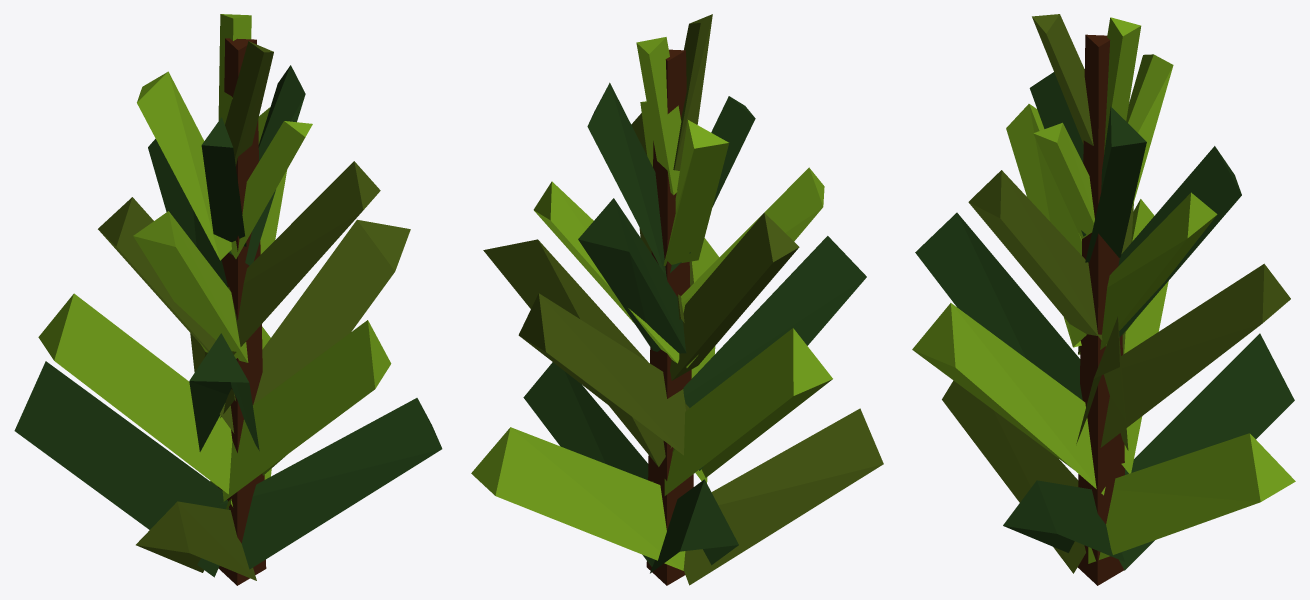
The model's file is Tree3_M2_3_small.fbx.
3 renders of one model, left to right at view 1: azimuth 30°, elevation 25°; view 2: azimuth 150°, elevation 25°; view 3: azimuth 270°, elevation 25°, orthographic. The views are drawn at different scales.
Parts seen in each view (by area): view 1: Tree3_M2_3_small; view 2: Tree3_M2_3_small; view 3: Tree3_M2_3_small.
Part boxes in pixels (x1,y1,x2,y2): Tree3_M2_3_small: (14,14,442,585); Tree3_M2_3_small: (471,14,883,585); Tree3_M2_3_small: (912,14,1295,585).
Bounding box in the file's own units: 129 × 191 × 120.
